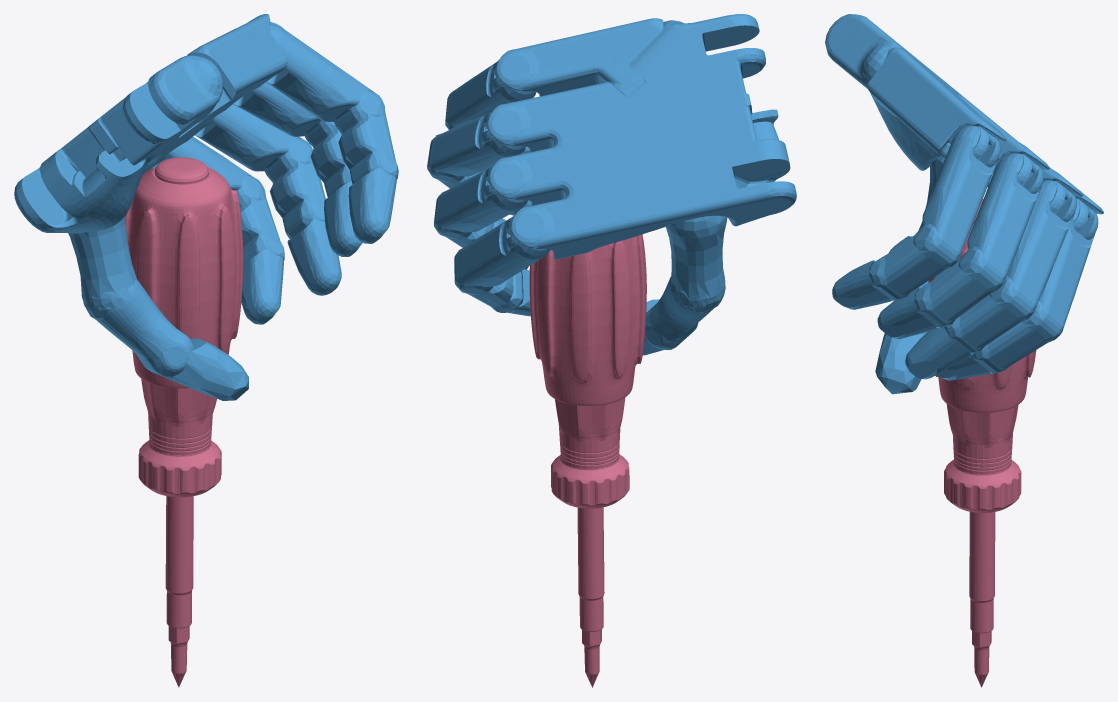
The picture shows the model from 3 angles, left to right: view 1: azimuth 30°, elevation 25°; view 2: azimuth 150°, elevation 25°; view 3: azimuth 270°, elevation 25°; orthographic projection. The views are drawn at different scales.
Visible parts, largest first — view 1: 9; view 2: 9; view 3: 9.
Part boxes in pixels (x1,y1,x2,y2): 9: (14, 14, 398, 687); 9: (427, 14, 796, 687); 9: (825, 14, 1103, 687).
Size of the model in its own units: 0.157 by 0.281 by 0.1119.
